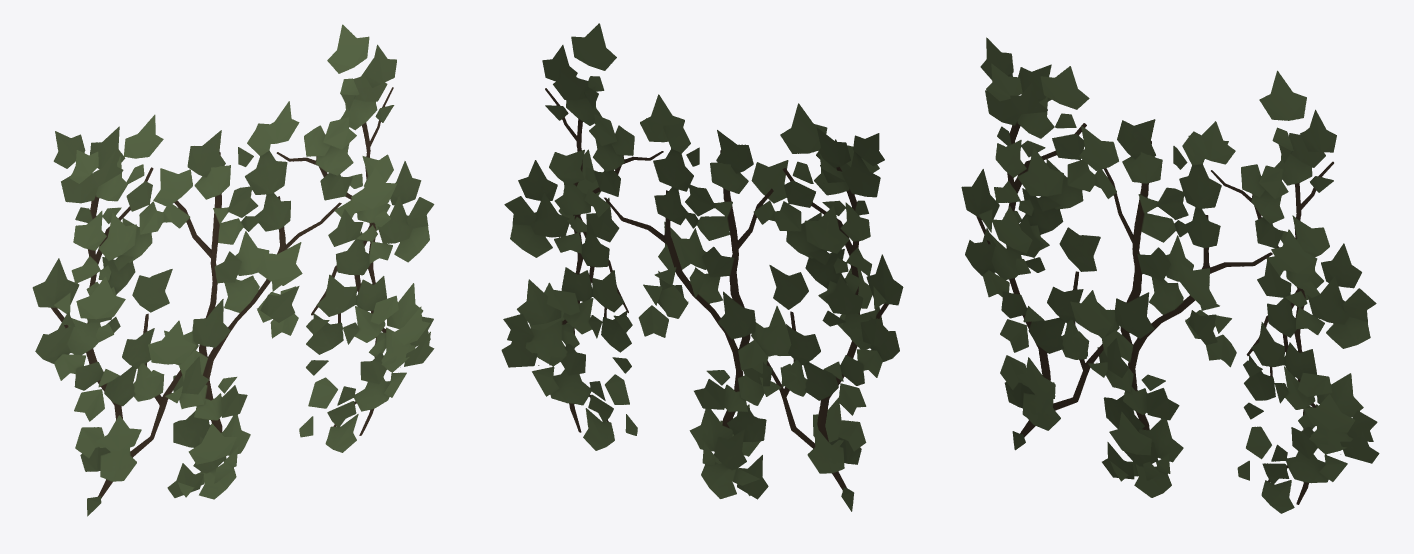
File: SM_Env_Vines_01.fbx
3 views of the same model, side by side, from view 1: azimuth 30°, elevation 25°; view 2: azimuth 150°, elevation 25°; view 3: azimuth 330°, elevation 25° (orthographic). The views are drawn at different scales.
Parts seen in each view (by area): view 1: SM_Env_Vines_01; view 2: SM_Env_Vines_01; view 3: SM_Env_Vines_01.
Part boxes in pixels (left/top/right/bottom): SM_Env_Vines_01: left=32, top=24, right=434, bottom=516; SM_Env_Vines_01: left=501, top=23, right=903, bottom=511; SM_Env_Vines_01: left=961, top=37, right=1379, bottom=513.
Size of the model in its own units: 277 by 277 by 30.
